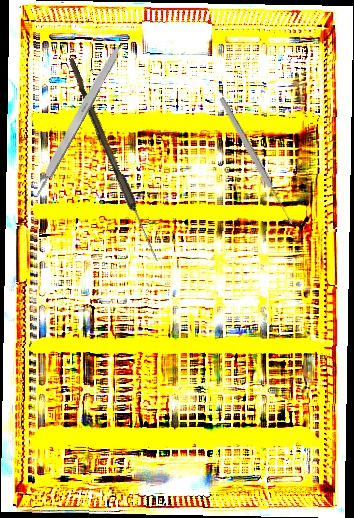Scalpel Handle: (29, 38, 126, 200)
Surgical Spoon: (63, 57, 163, 263), (217, 96, 295, 226)
